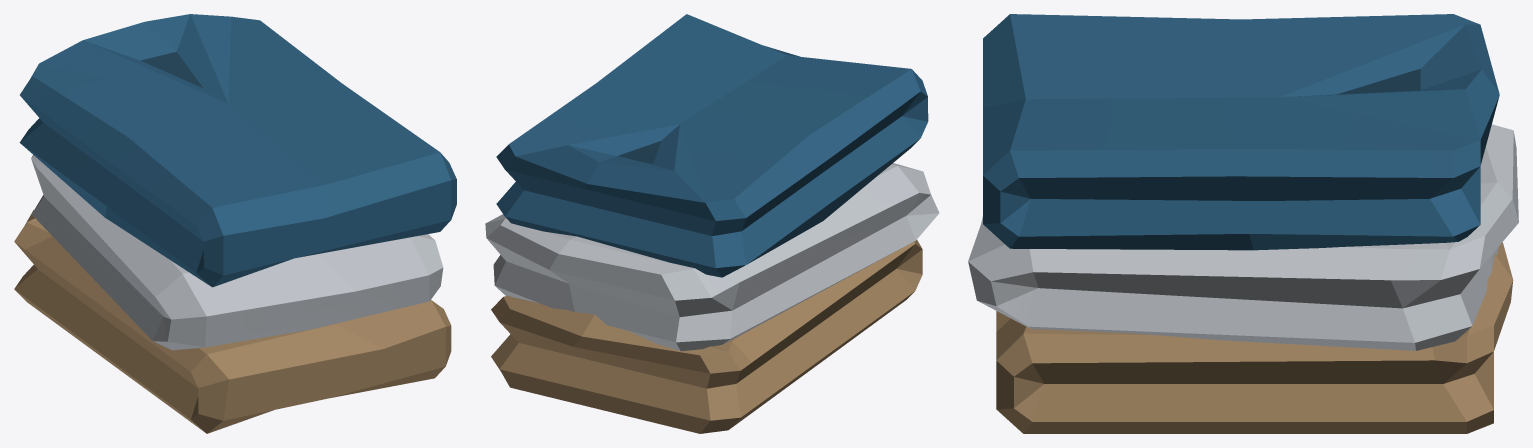
The model's file is SM_Prop_Clothes_Folded_03.obj.
3 views of the same model, side by side, from view 1: azimuth 30°, elevation 25°; view 2: azimuth 150°, elevation 25°; view 3: azimuth 270°, elevation 25° (orthographic). The views are drawn at different scales.
Visible parts, largest first — view 1: SM_Prop_Clothes_Folded_03_0; view 2: SM_Prop_Clothes_Folded_03_0; view 3: SM_Prop_Clothes_Folded_03_0.
Boxes of the visible parts, x1,y1,x2,y2 form: SM_Prop_Clothes_Folded_03_0: [14, 14, 456, 433]; SM_Prop_Clothes_Folded_03_0: [485, 14, 939, 433]; SM_Prop_Clothes_Folded_03_0: [968, 14, 1518, 433].
Size of the model in its own units: 0.2953 by 0.2375 by 0.3875.
1 material, 1 textured.
